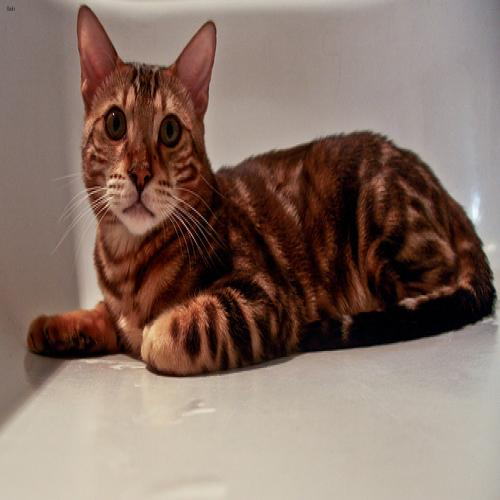bengal: (65, 1, 229, 248)
